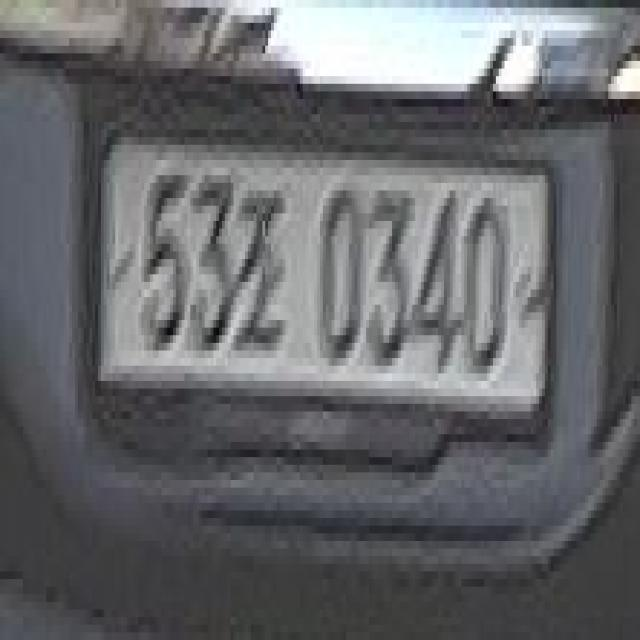0: (461, 152, 516, 388), (311, 144, 366, 366)
3: (369, 129, 412, 381), (178, 145, 228, 343)
4: (412, 130, 470, 426)
5: (127, 145, 193, 358)
jo: (228, 183, 297, 350)
license_plate: (90, 114, 560, 480)
